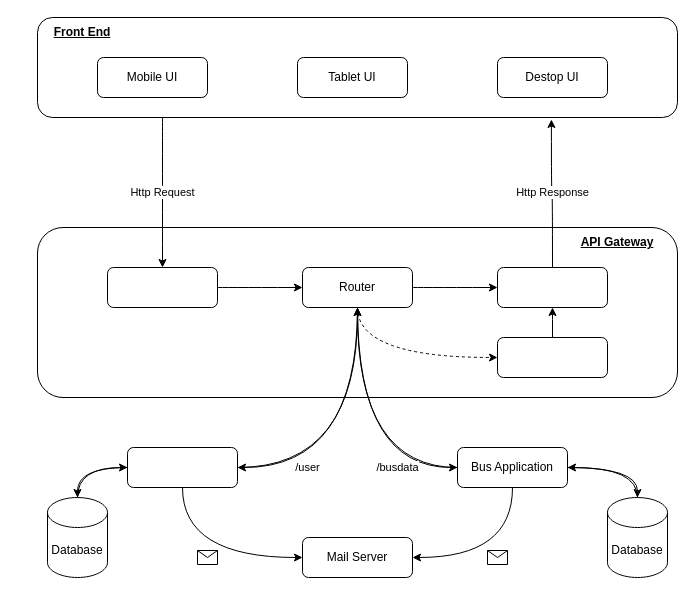
Image size: 695x595. Some labels were removed from this diagram. The centre of each missing label's shape, as x and y in pixels:
Error: pixel 552 357
Post Request: pixel 552 287
Pre Request: pixel 162 287
User Application: pixel 182 467
